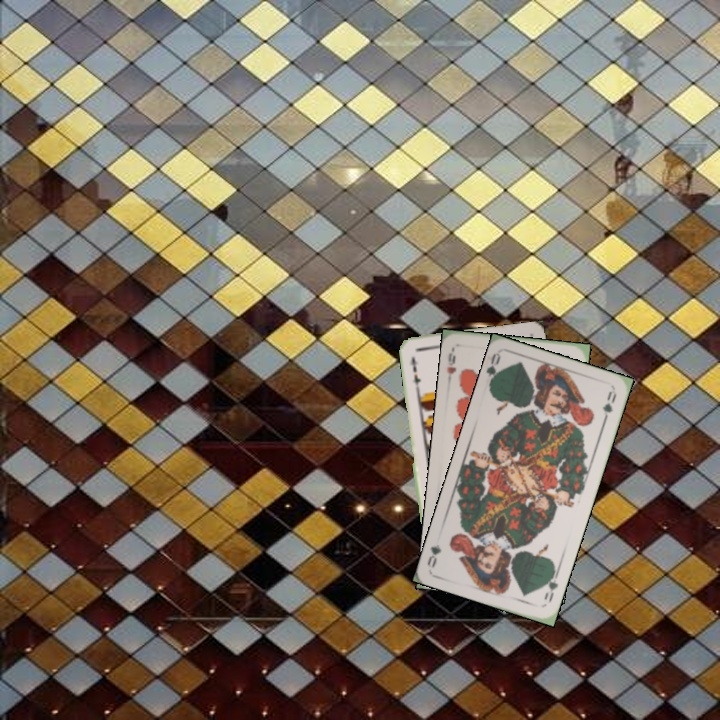E7: (406, 352, 424, 391)
GO: (483, 349, 505, 390), (540, 567, 561, 605)
H9: (443, 345, 458, 386)
